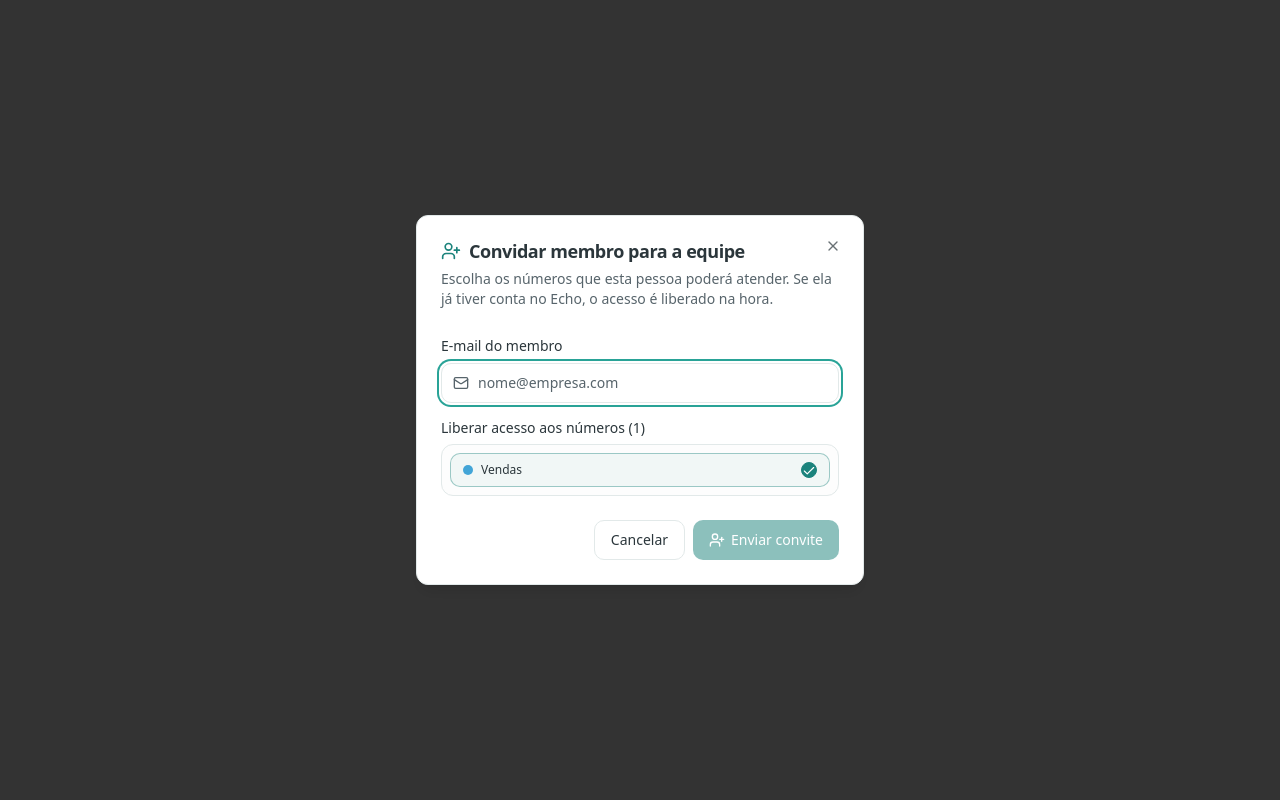
Scenario: InviteMemberDialog: link do convite › falha no envio do e-mail manda copiar o link
In the field labelled "E-mail do membro": (640, 382) left=441, top=362, right=839, bottom=402, type "agente@example.com"
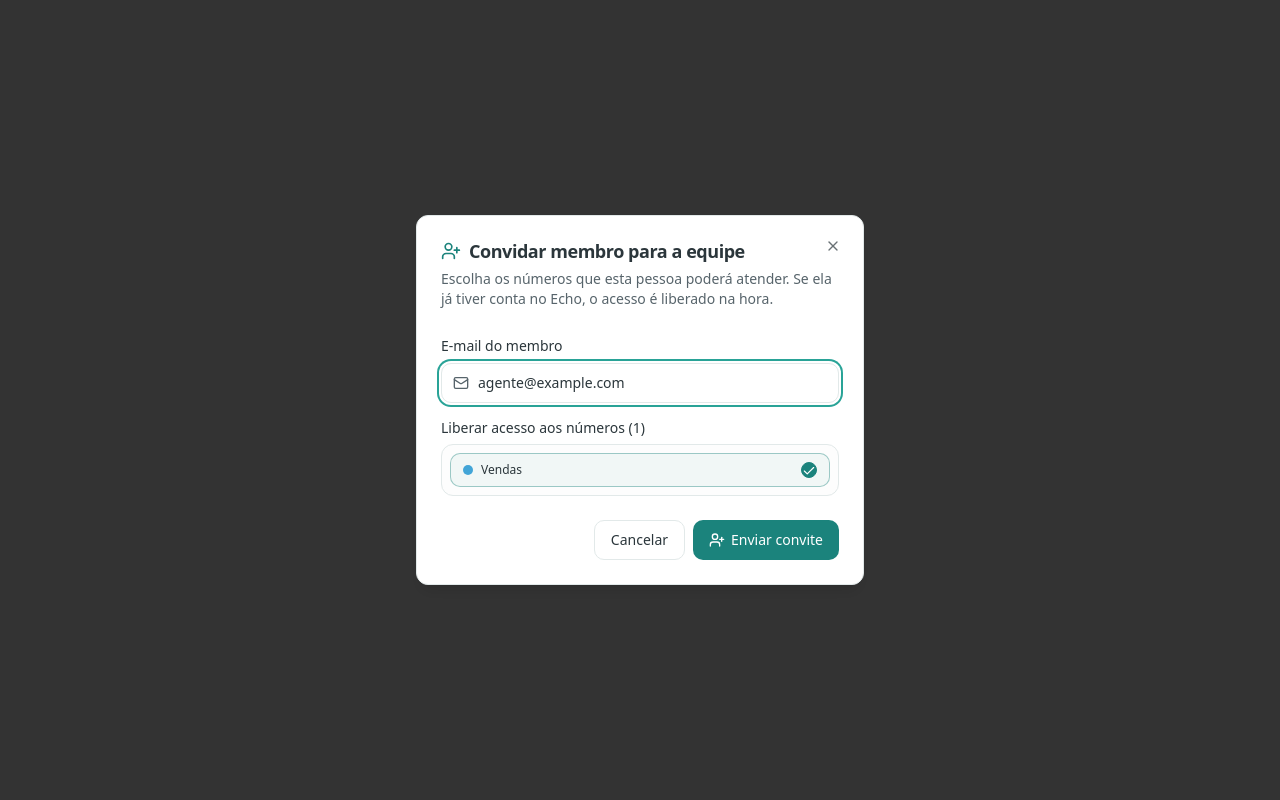
Click the button "Enviar convite": (766, 540) left=693, top=520, right=839, bottom=560
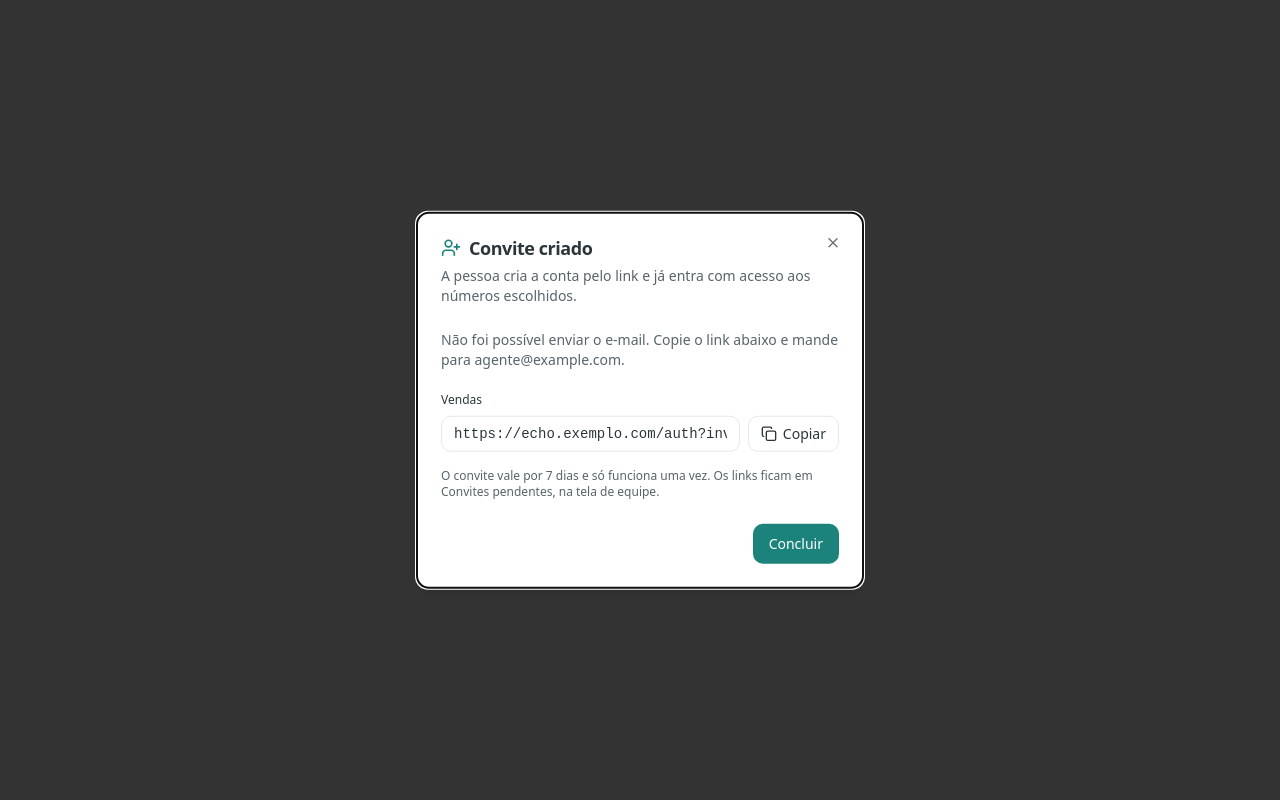
Check: the text "Não foi possível enviar o e-mail. Copie o link" is shown, box left=441, top=329, right=838, bottom=368
